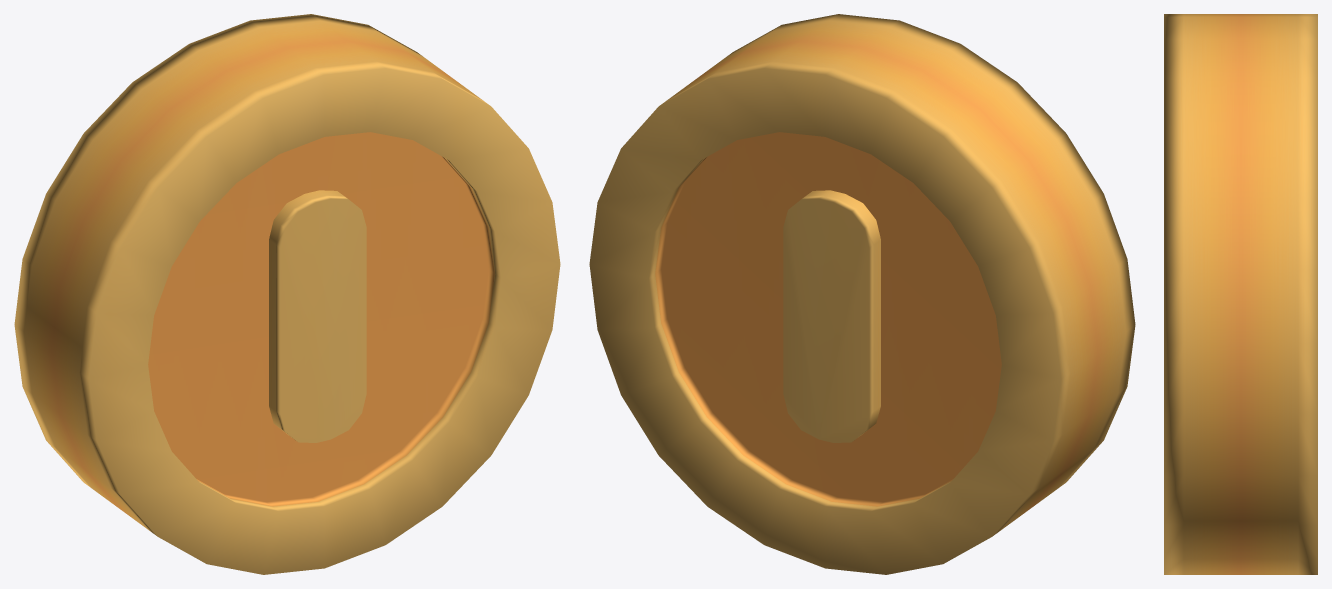
Rendered from Proto_Coin_01.fbx.
The picture shows the model from 3 angles, left to right: view 1: azimuth 30°, elevation 25°; view 2: azimuth 150°, elevation 25°; view 3: azimuth 270°, elevation 25°; orthographic projection. The views are drawn at different scales.
Visible parts, largest first — view 1: Proto_Coin_01; view 2: Proto_Coin_01; view 3: Proto_Coin_01.
Part boxes in pixels (x1=…): Proto_Coin_01: x1=14, y1=14, x2=560, y2=574; Proto_Coin_01: x1=589, y1=14, x2=1135, y2=574; Proto_Coin_01: x1=1164, y1=14, x2=1317, y2=574.
Size of the model in its own units: 22.36 by 22.36 by 6.11.
